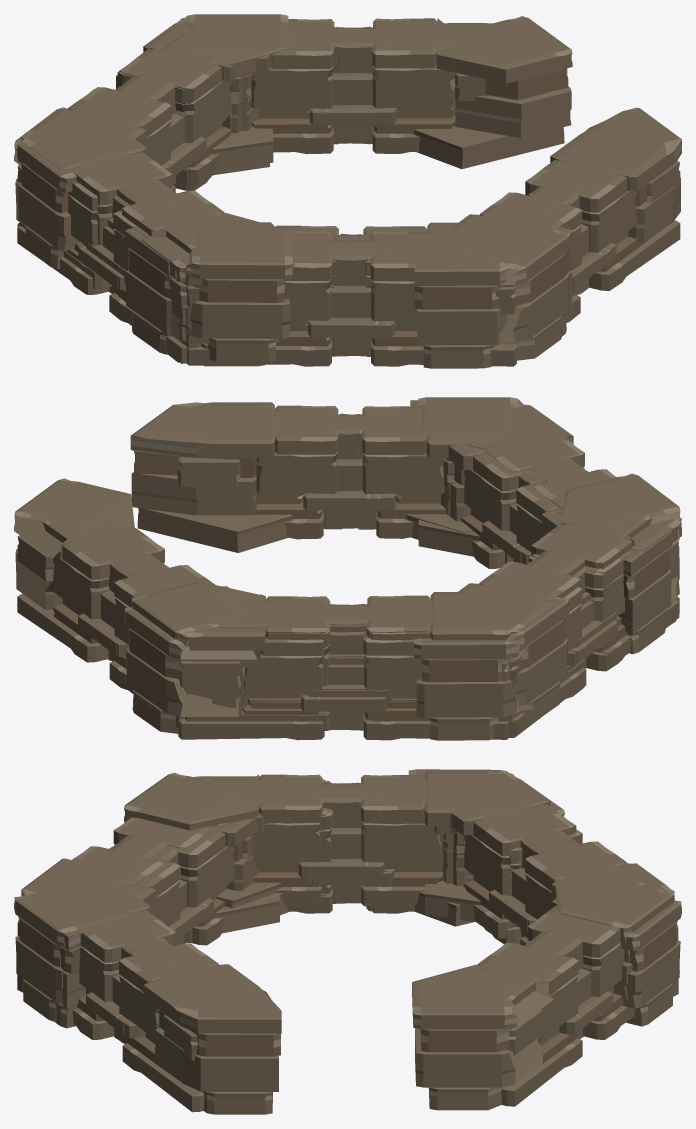
The model's file is five.glb.
3 views of the same model, one above another, from view 1: azimuth 30°, elevation 25°; view 2: azimuth 150°, elevation 25°; view 3: azimuth 270°, elevation 25° (orthographic). The views are drawn at different scales.
Visible parts, largest first — view 1: Wall_Modular.015; view 2: Wall_Modular.015; view 3: Wall_Modular.015.
Boxes of the visible parts, x1,y1,x2,y2 form: Wall_Modular.015: [14, 14, 681, 368]; Wall_Modular.015: [14, 397, 681, 740]; Wall_Modular.015: [14, 769, 681, 1114].
Bounding box in the file's own units: 1.97 × 0.3914 × 2.26.
